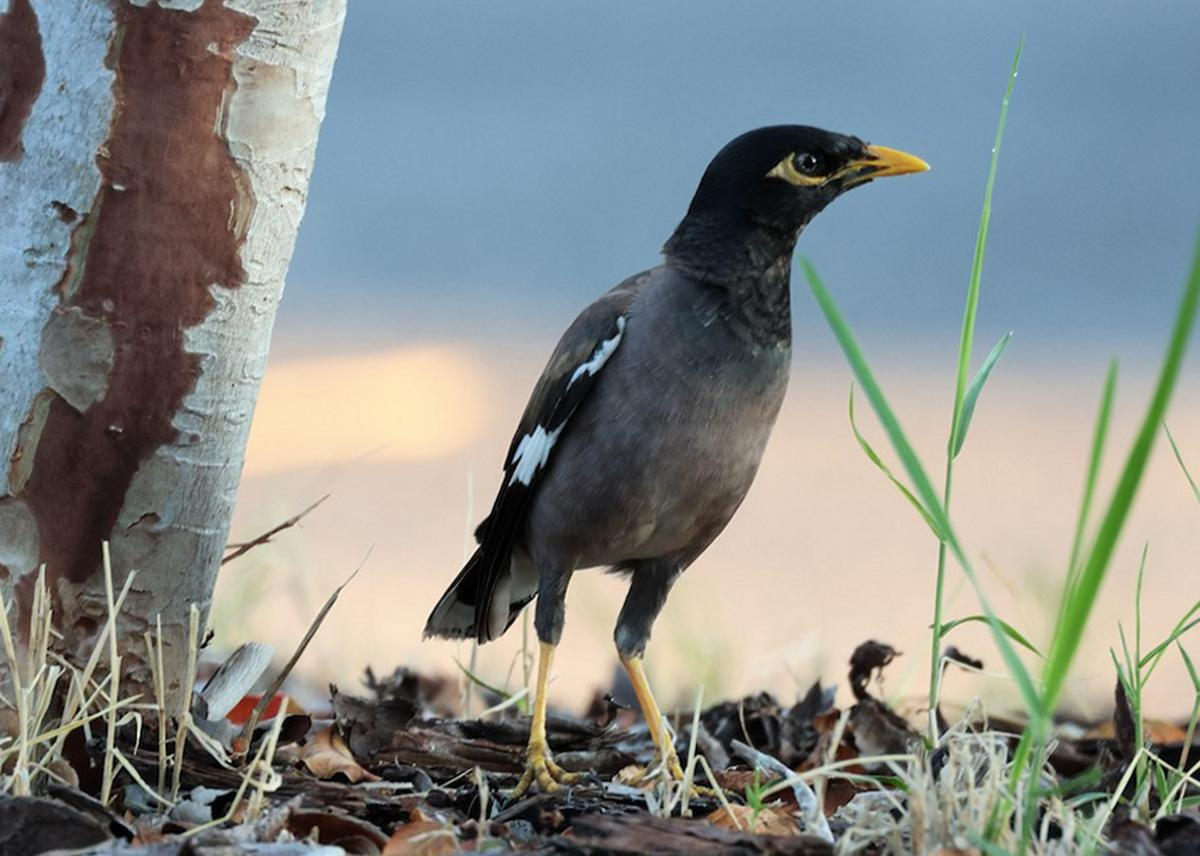myna: (340, 95, 973, 744)
